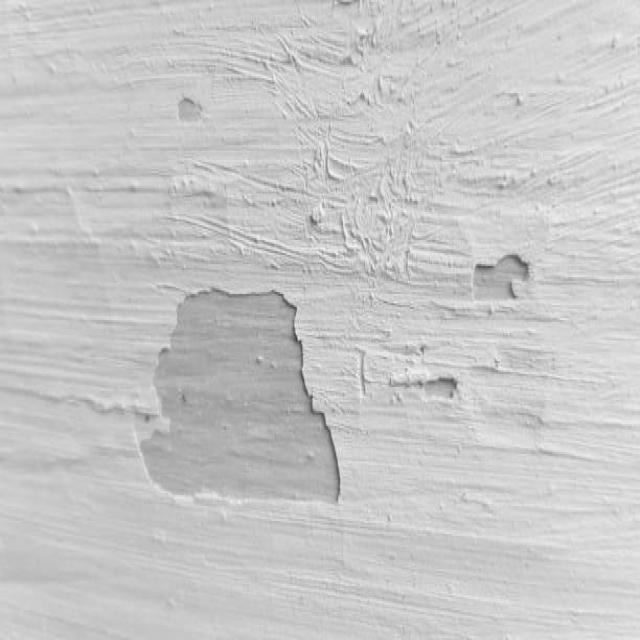peeling paint: (122, 79, 562, 543)
